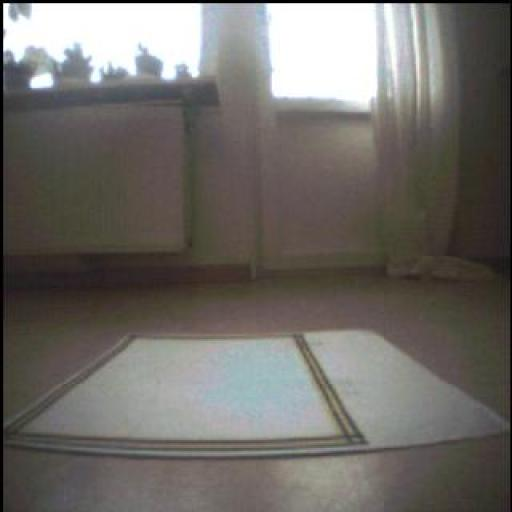Pad: (6, 332, 510, 459)
